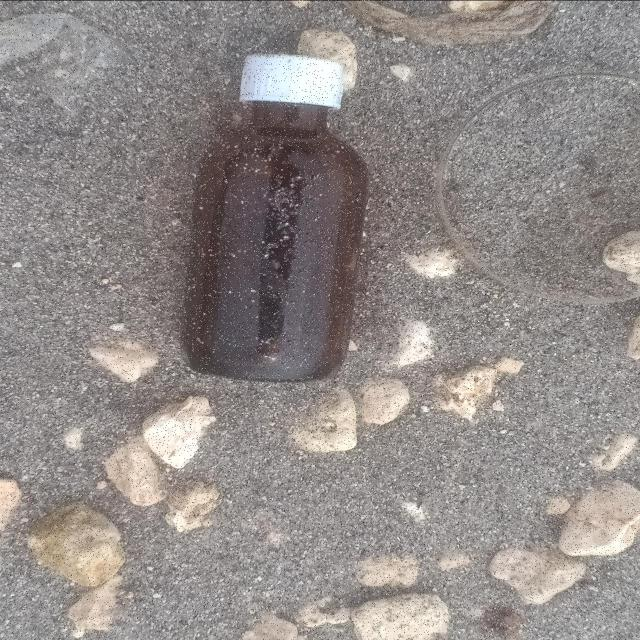glass_waste: (181, 53, 371, 385)
